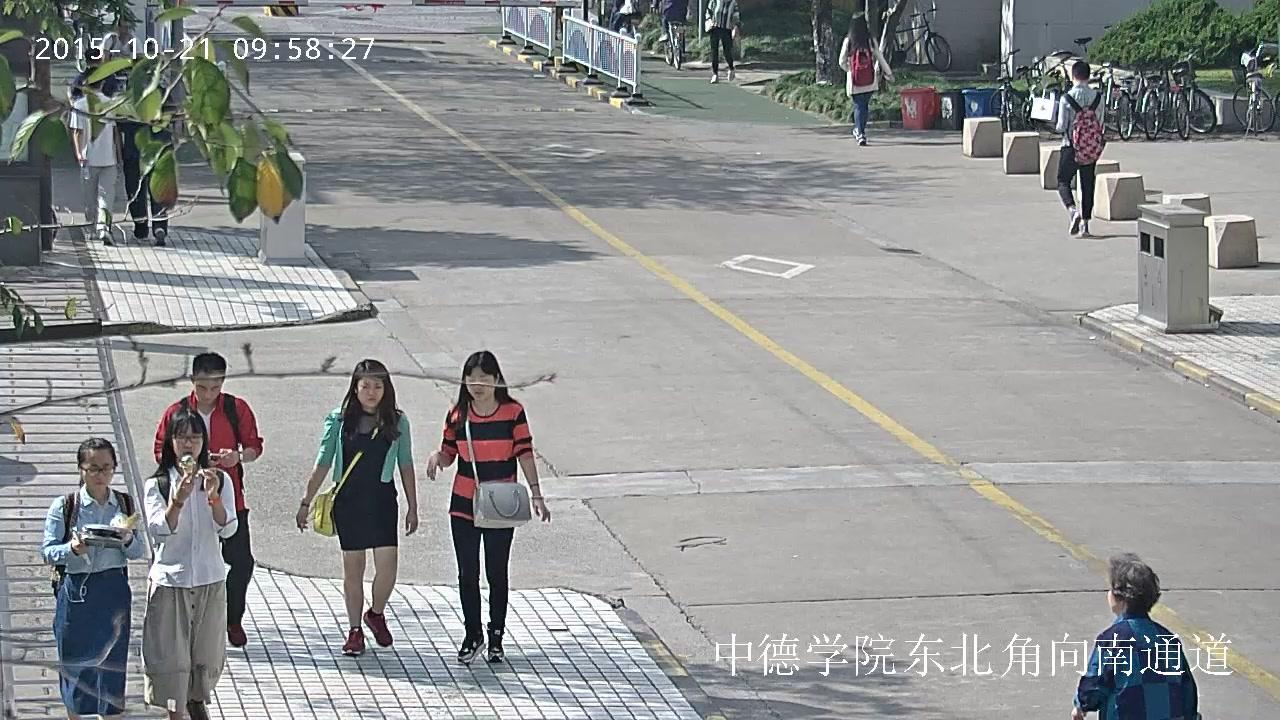face: (82, 450, 113, 493), (173, 425, 202, 461), (465, 367, 492, 401), (194, 372, 221, 404), (357, 377, 383, 408), (1108, 584, 1118, 612), (119, 23, 129, 34)
